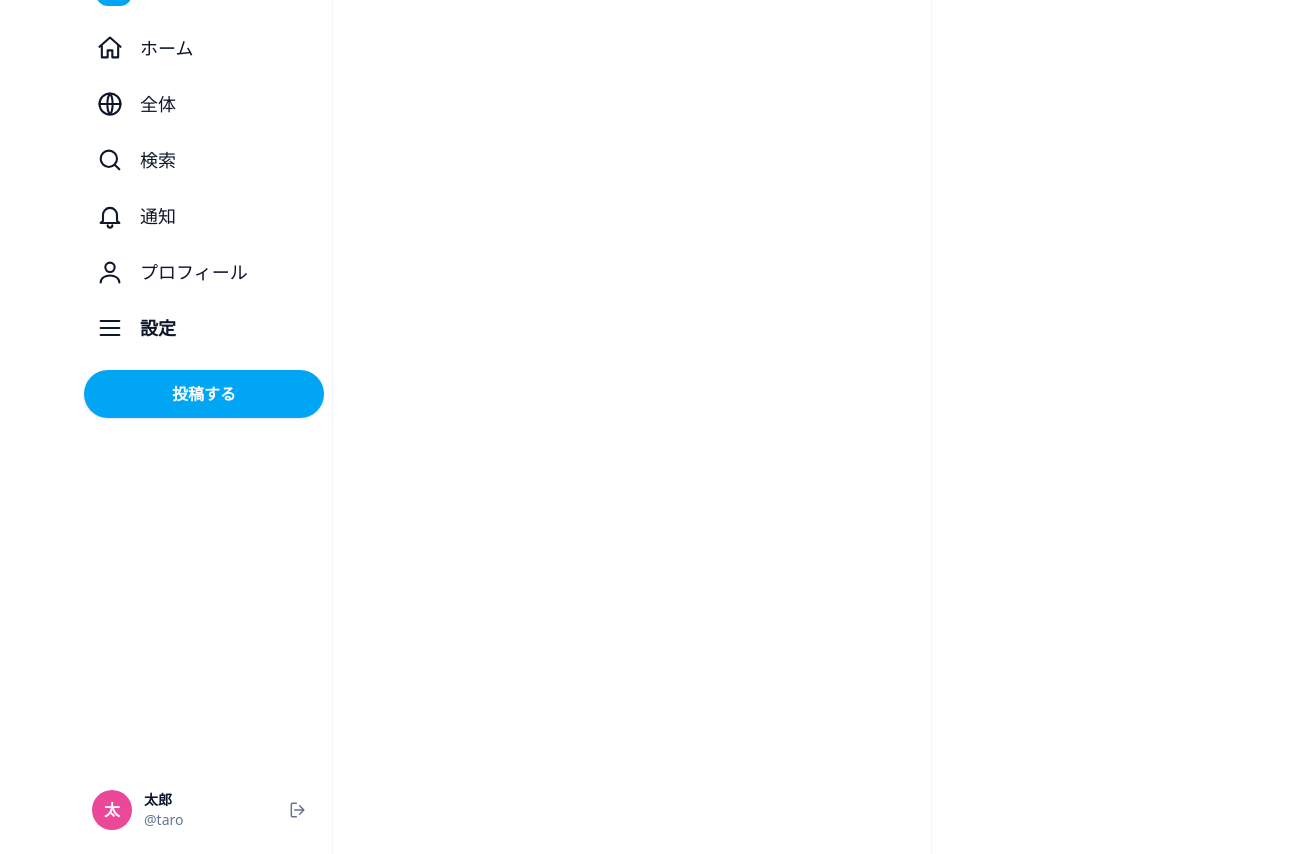
it: Layout › ログアウトすると先にトップへ移ってからログアウトする
This screenshot has width=1292, height=854.
Click the button named "ログアウト".
click(298, 810)  # box [280,792,316,828]
(page scrolled)
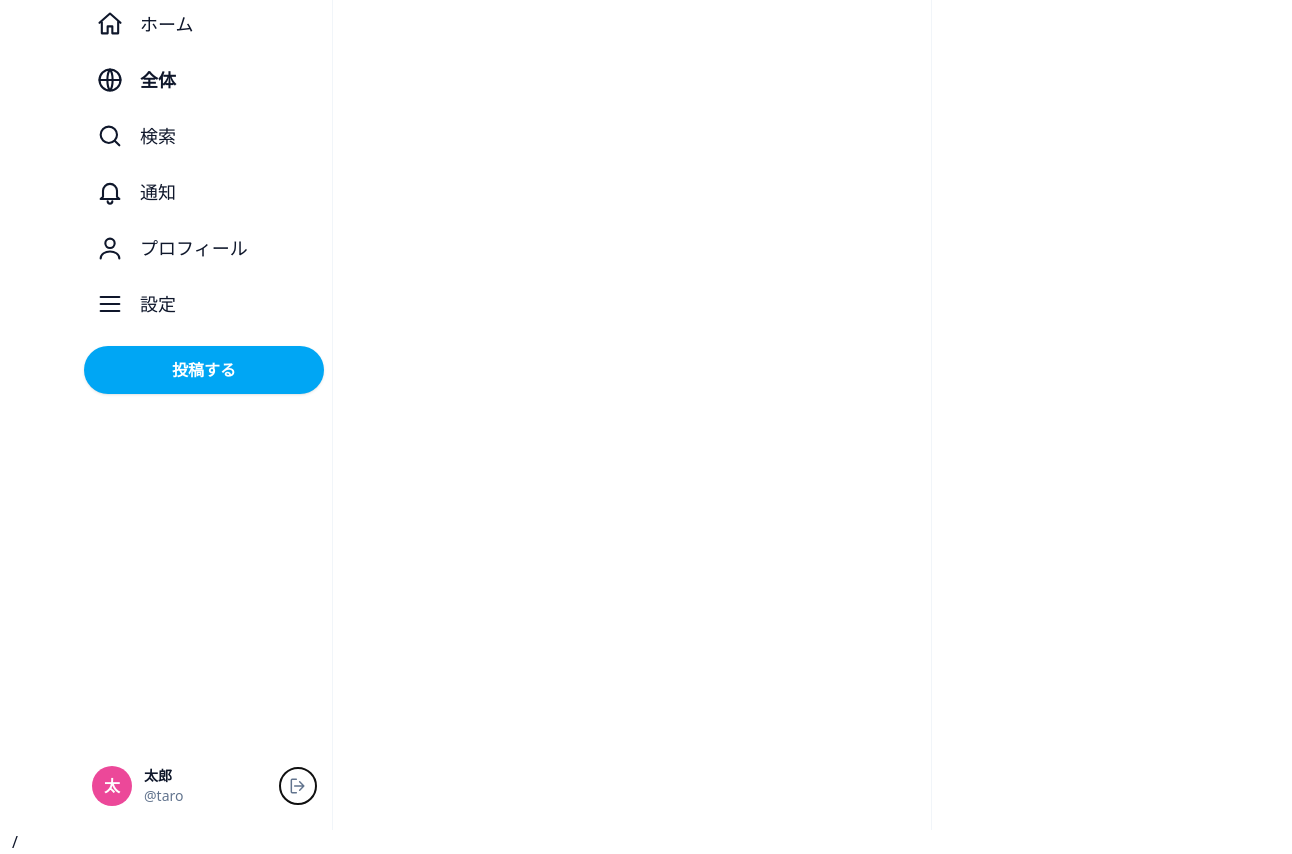
Expected: the text with test id "location" reads "/", [12,831,18,853]
